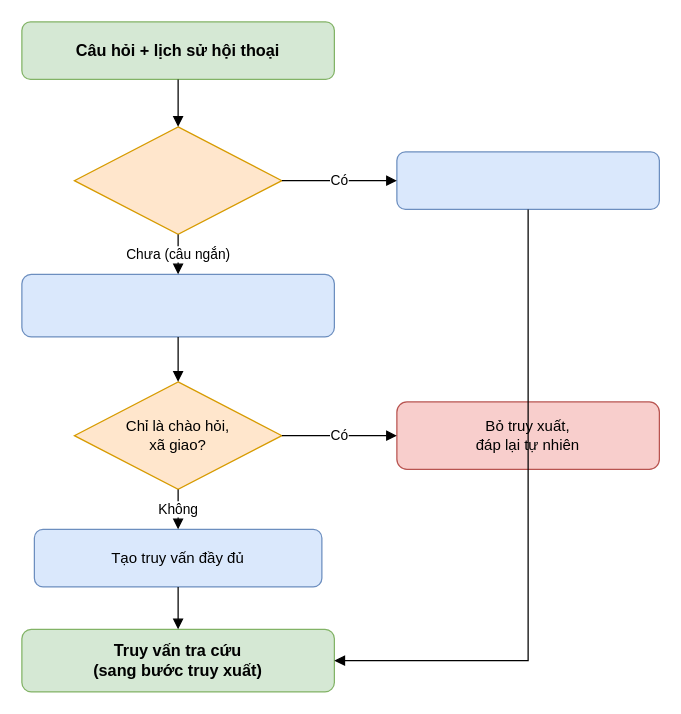
Image size: 681x714. Some labels were removed from this diagram. The centre of each missing label's shape, as x and y in pixels:
"Câu hỏi đã đủ thông tin?" goes at point (177, 180).
"Giữ nguyên làm truy vấn" goes at point (527, 180).
"Viết lại truy vấn dựa vào lịch sử hội thoại (LLM)" goes at point (177, 305).
